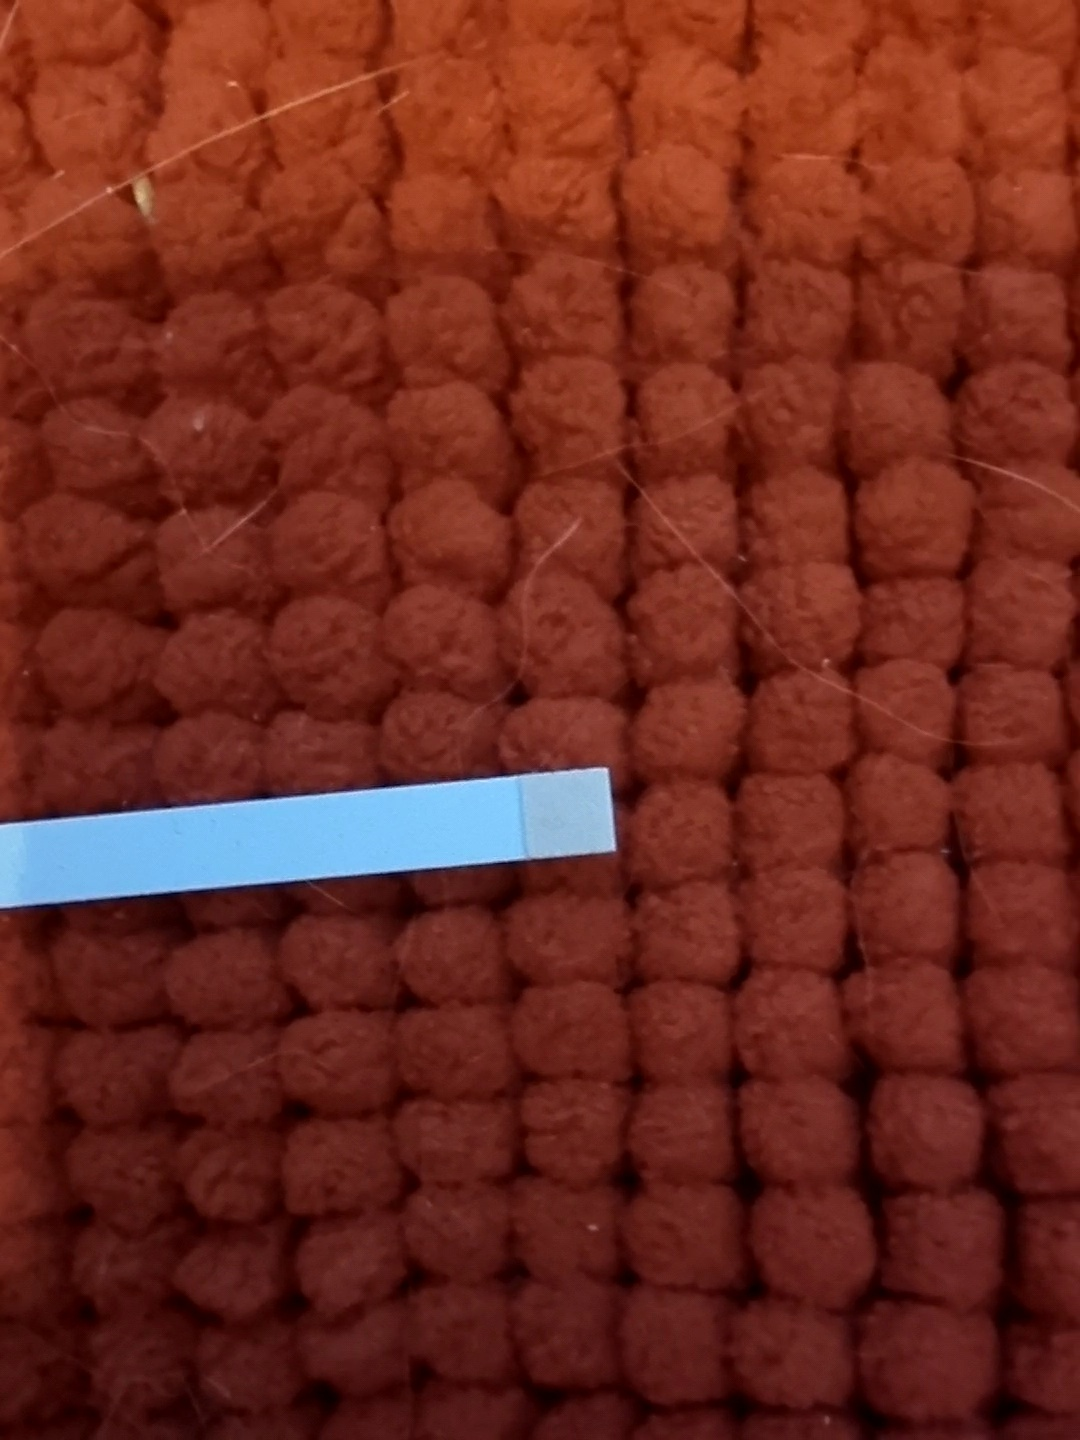keto-tip: (511, 761, 623, 866)
